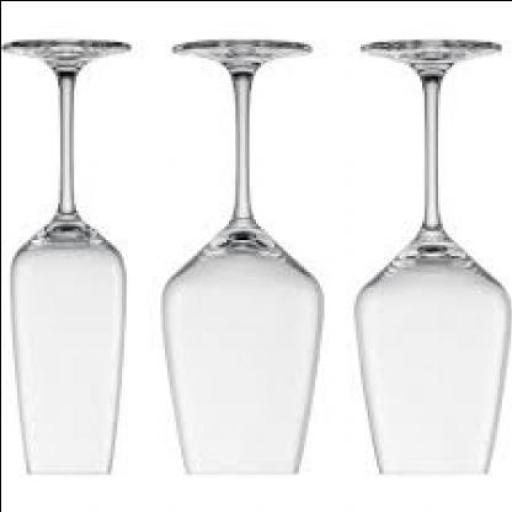glass: (155, 41, 323, 478), (352, 41, 508, 478), (0, 45, 128, 474)
